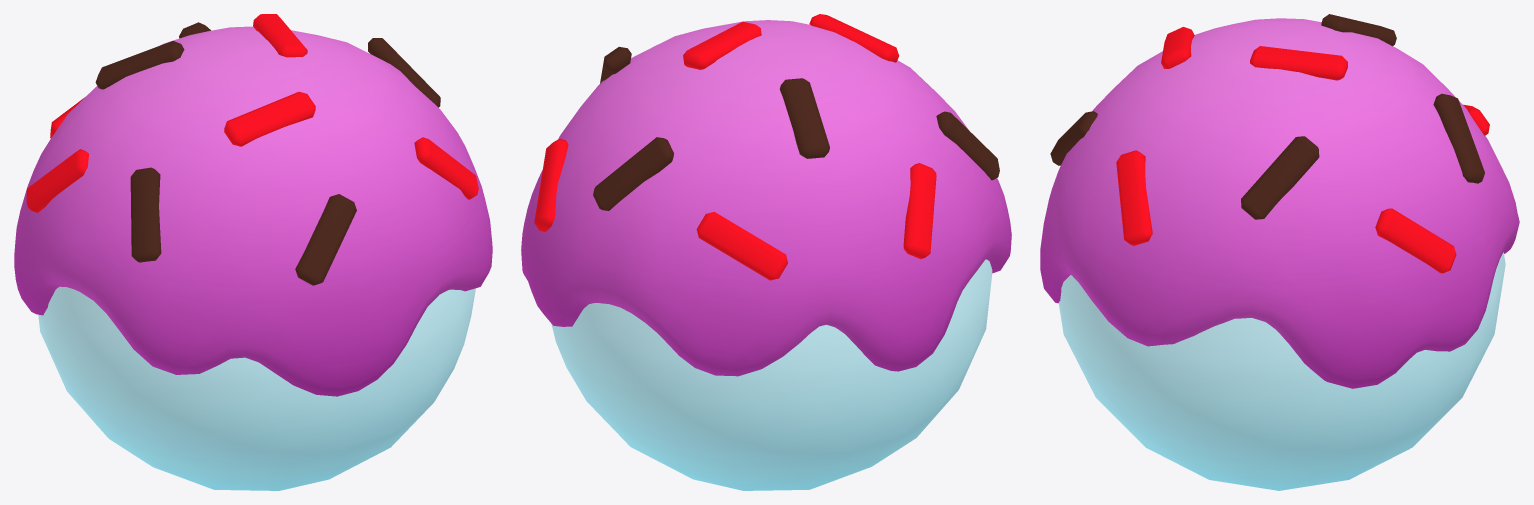
The model's file is IceCream_03.glb.
The picture shows the model from 3 angles, left to right: view 1: azimuth 30°, elevation 25°; view 2: azimuth 150°, elevation 25°; view 3: azimuth 270°, elevation 25°; orthographic projection.
Visible parts, largest first — view 1: IceCream_03; view 2: IceCream_03; view 3: IceCream_03.
Boxes of the visible parts, x1,y1,x2,y2 form: IceCream_03: (14,14,492,490); IceCream_03: (521,14,1011,490); IceCream_03: (1040,14,1519,490).
Size of the model in its own units: 0.9732 by 0.9814 by 0.9814.
1 material, 1 textured.
